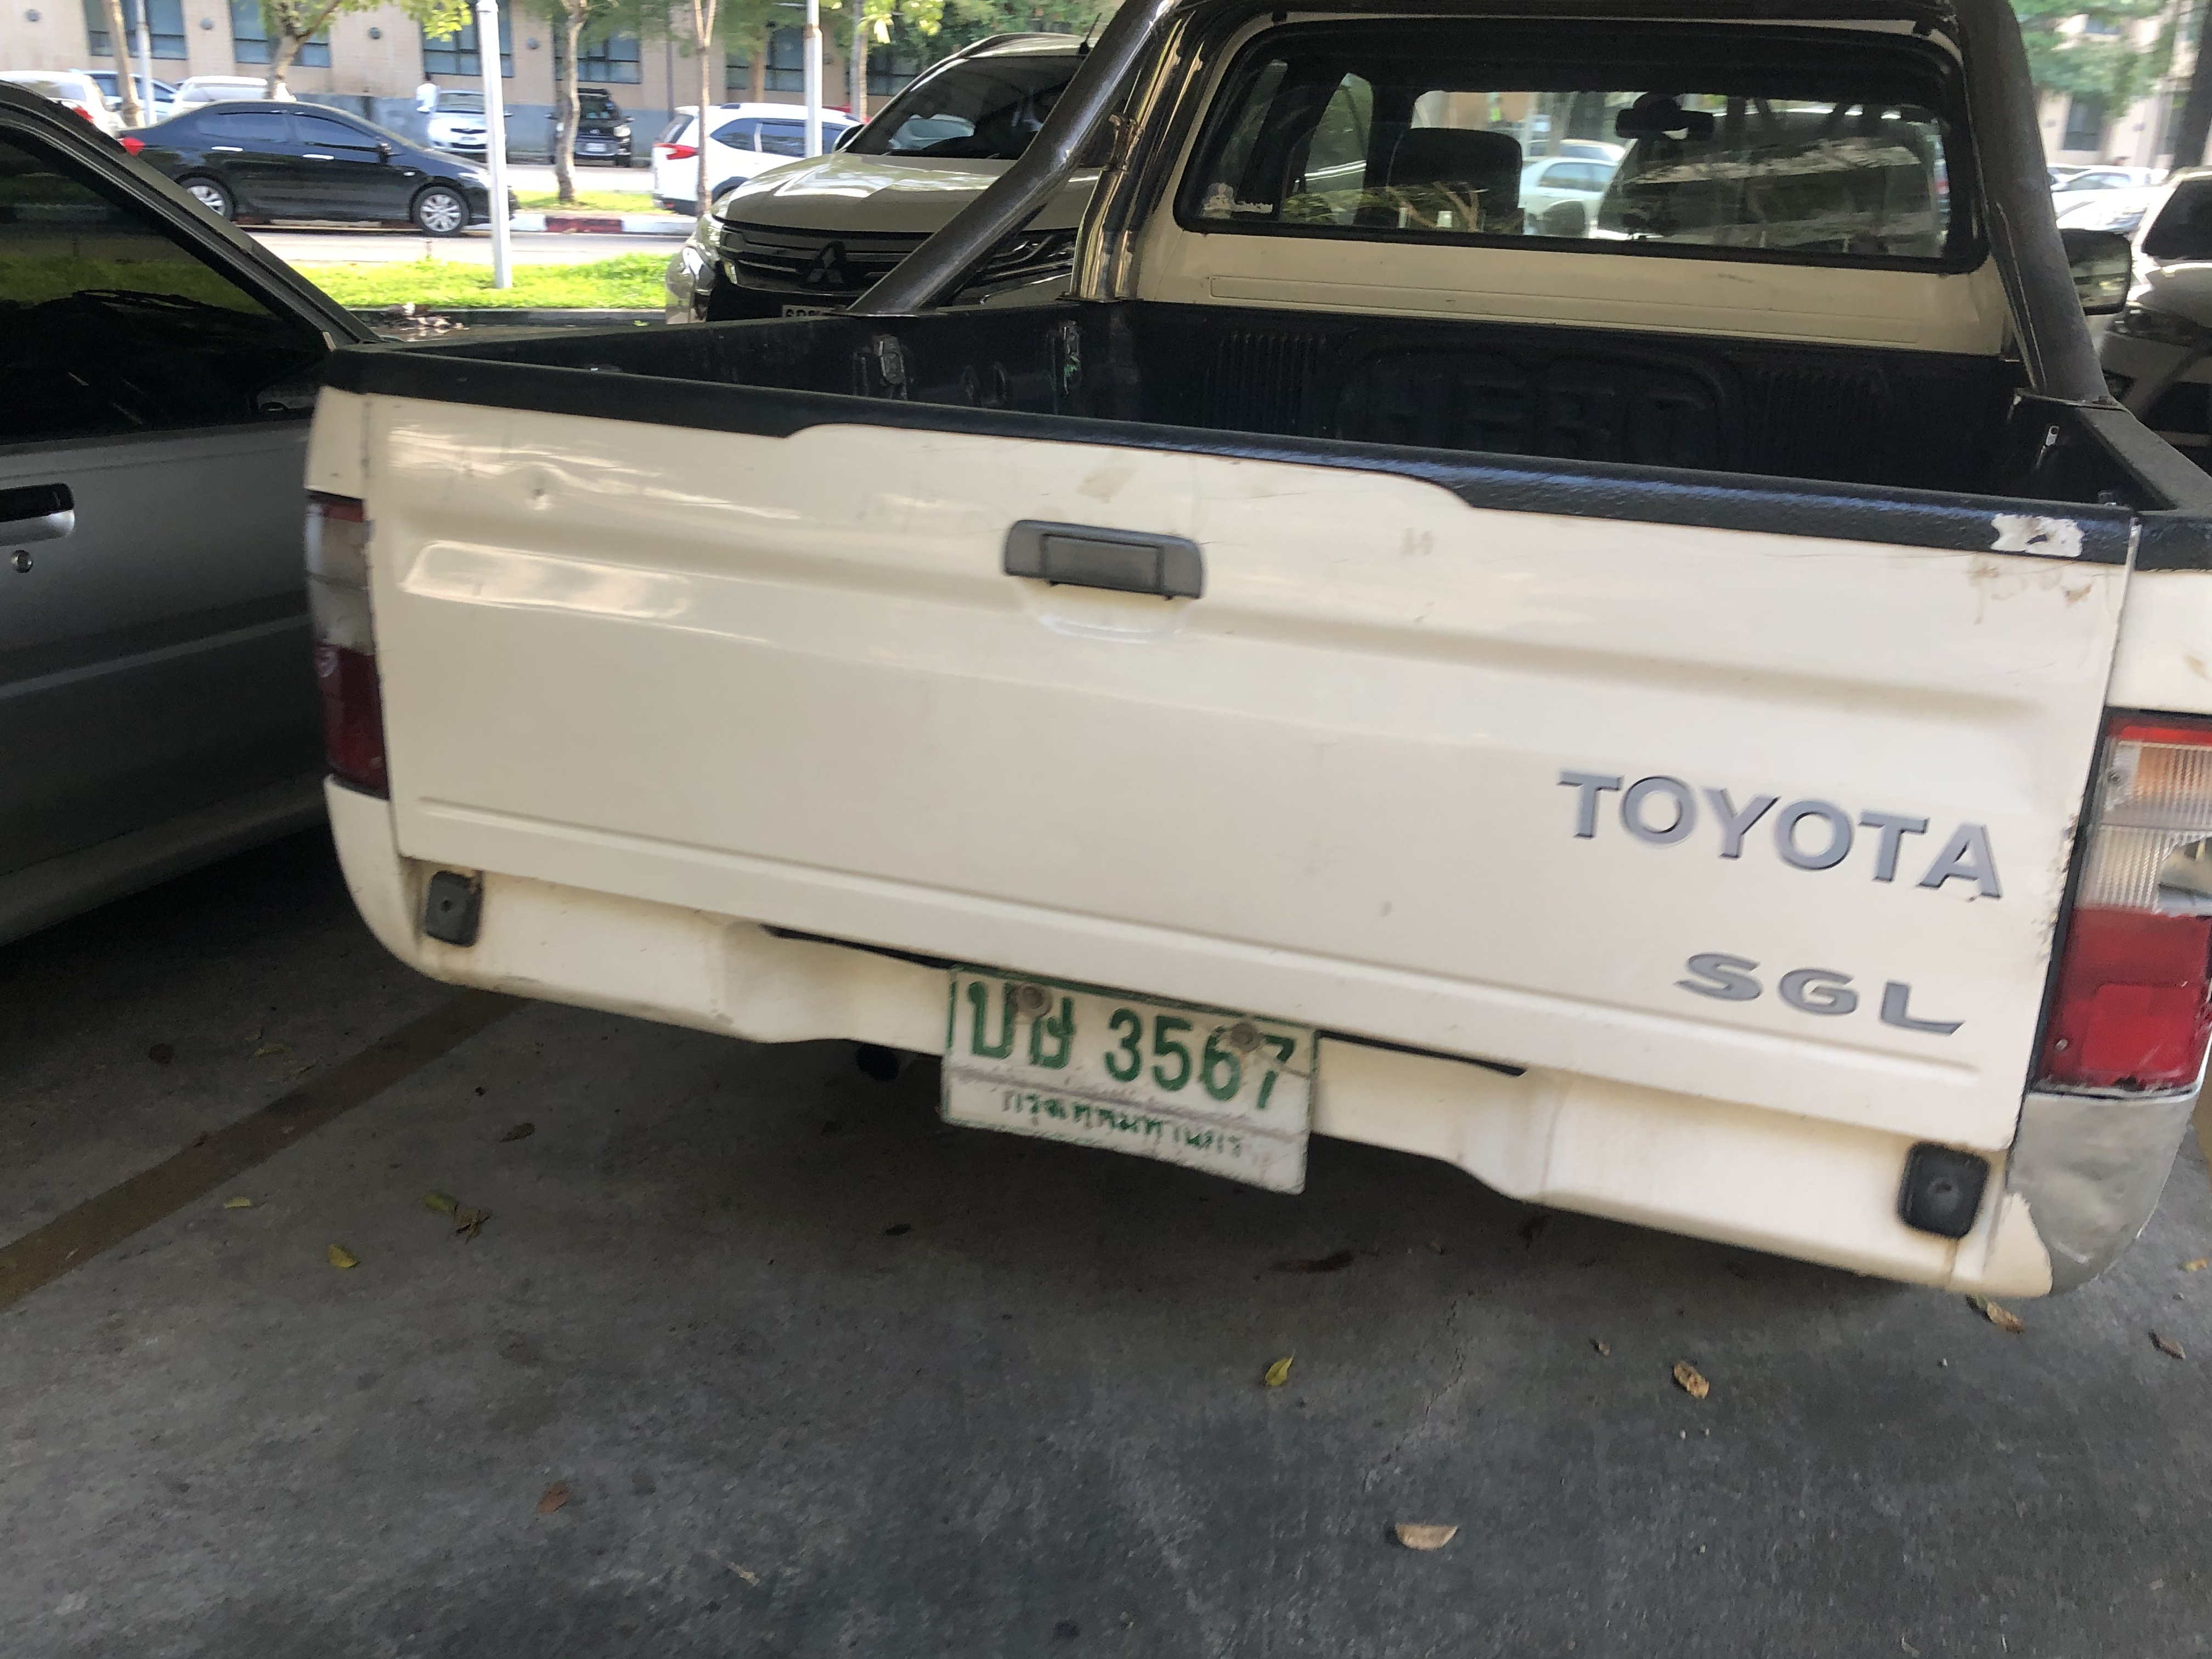in: (953, 976, 1306, 1190)
